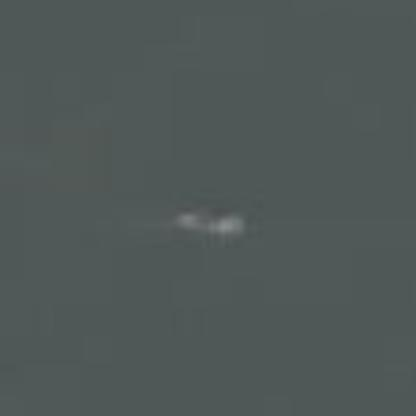ship: (170, 199, 248, 248)
